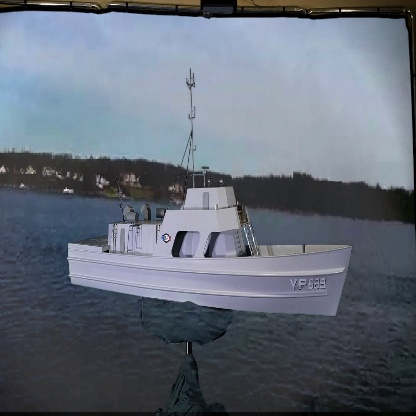YP689: (68, 69, 352, 318)
